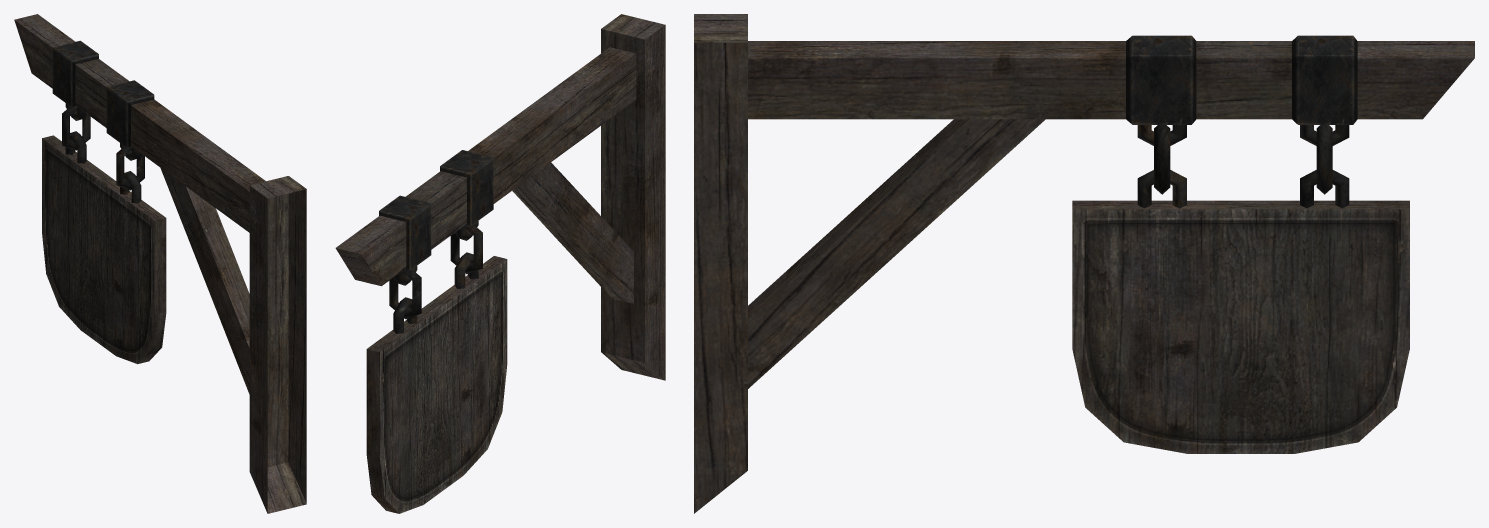
File: Signboard1A.fbx
The picture shows the model from 3 angles, left to right: view 1: azimuth 30°, elevation 25°; view 2: azimuth 150°, elevation 25°; view 3: azimuth 270°, elevation 25°; orthographic projection. The views are drawn at different scales.
Parts seen in each view (by area): view 1: polySurface182; view 2: polySurface182; view 3: polySurface182.
Boxes of the visible parts, x1=… form: polySurface182: x1=14, y1=14, x2=306, y2=513; polySurface182: x1=335, y1=14, x2=665, y2=513; polySurface182: x1=694, y1=14, x2=1474, y2=513.
Size of the model in its own units: 0.843 by 6.5 by 9.75.
